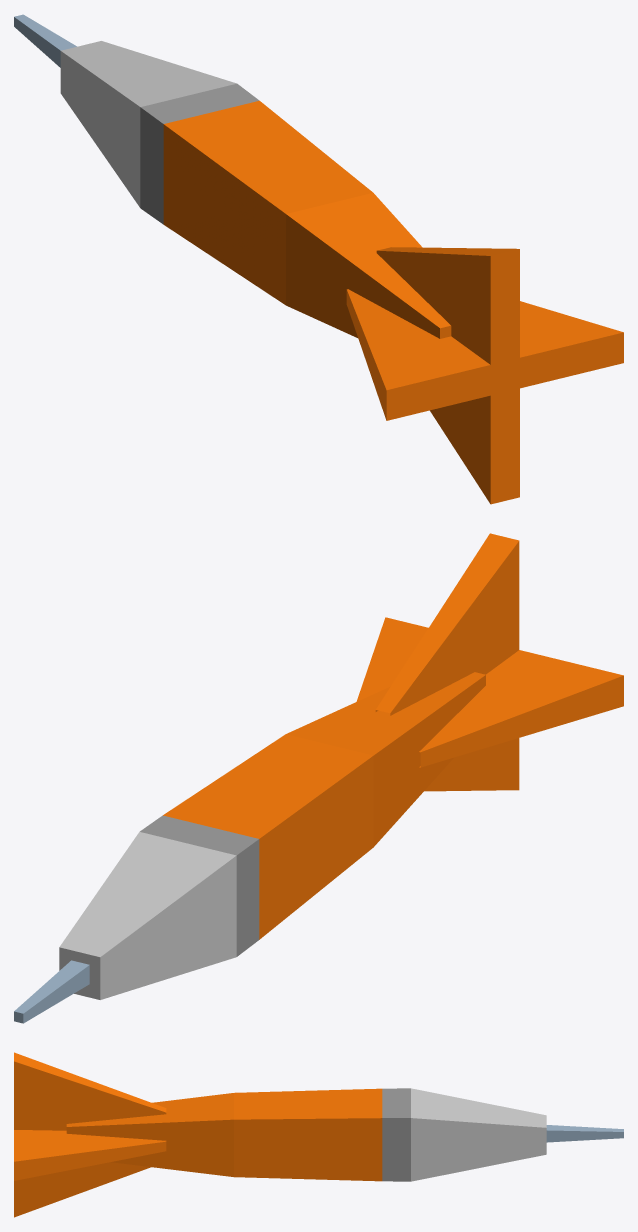
File: Dart Orange.fbx
The picture shows the model from 3 angles, top to bottom: view 1: azimuth 30°, elevation 25°; view 2: azimuth 150°, elevation 25°; view 3: azimuth 270°, elevation 25°; orthographic projection. The views are drawn at different scales.
Parts seen in each view (by area): view 1: Dart Orange; view 2: Dart Orange; view 3: Dart Orange.
Boxes of the visible parts, bbox=[...] form: Dart Orange: bbox=[14, 14, 623, 504]; Dart Orange: bbox=[14, 533, 623, 1023]; Dart Orange: bbox=[14, 1052, 623, 1217].
Bounding box in the file's own units: 9.23 × 9.23 × 32.65.
